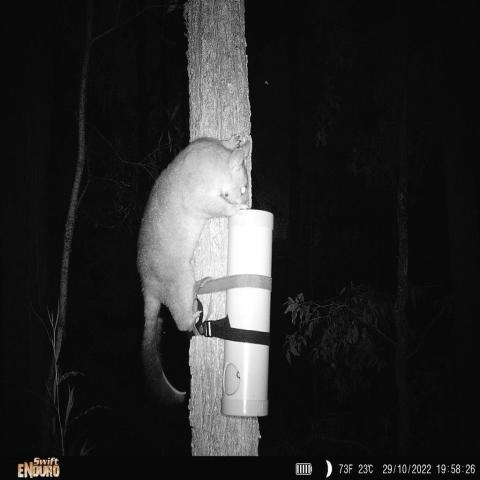small_animal: (136, 132, 252, 407)
